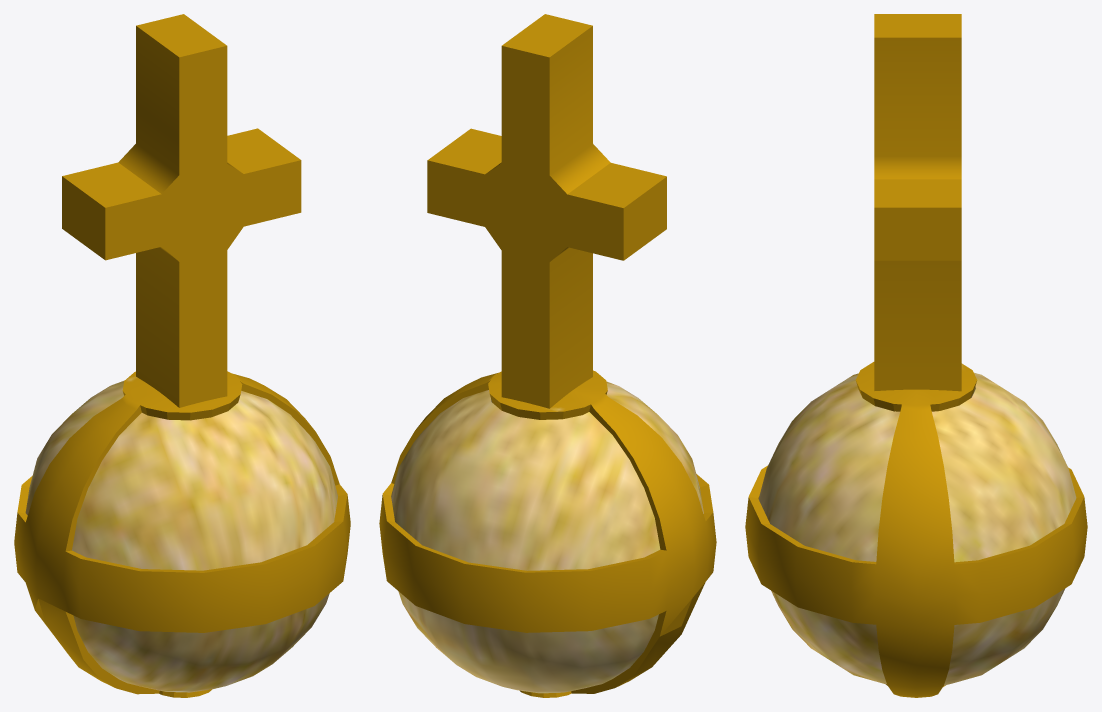
File: Orb 1.fbx
3 views of the same model, side by side, from view 1: azimuth 30°, elevation 25°; view 2: azimuth 150°, elevation 25°; view 3: azimuth 270°, elevation 25° (orthographic).
Parts seen in each view (by area): view 1: pSphere1, pCube1, pSphere2; view 2: pSphere1, pCube1, pSphere2; view 3: pSphere1, pSphere2, pCube1.
Boxes of the visible parts, left/top/right/bottom form: pSphere1: left=25, top=380, right=337, bottom=692; pCube1: left=62, top=14, right=301, bottom=407; pSphere2: left=14, top=371, right=350, bottom=697; pSphere1: left=391, top=381, right=703, bottom=693; pCube1: left=427, top=14, right=666, bottom=408; pSphere2: left=379, top=370, right=716, bottom=697; pSphere1: left=758, top=372, right=1076, bottom=685; pSphere2: left=745, top=362, right=1087, bottom=697; pCube1: left=874, top=14, right=961, bottom=391.
Size of the model in its own units: 1.34 by 2.83 by 1.34.
1 material, 1 textured.
